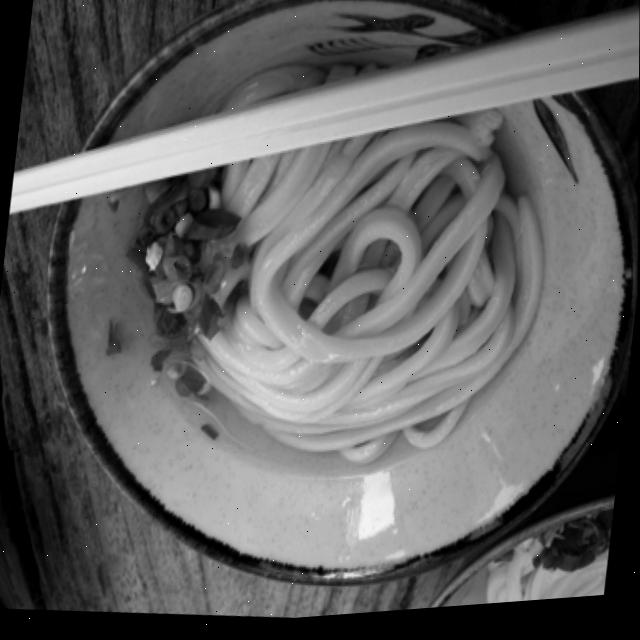面条主食: (49, 0, 622, 568)
